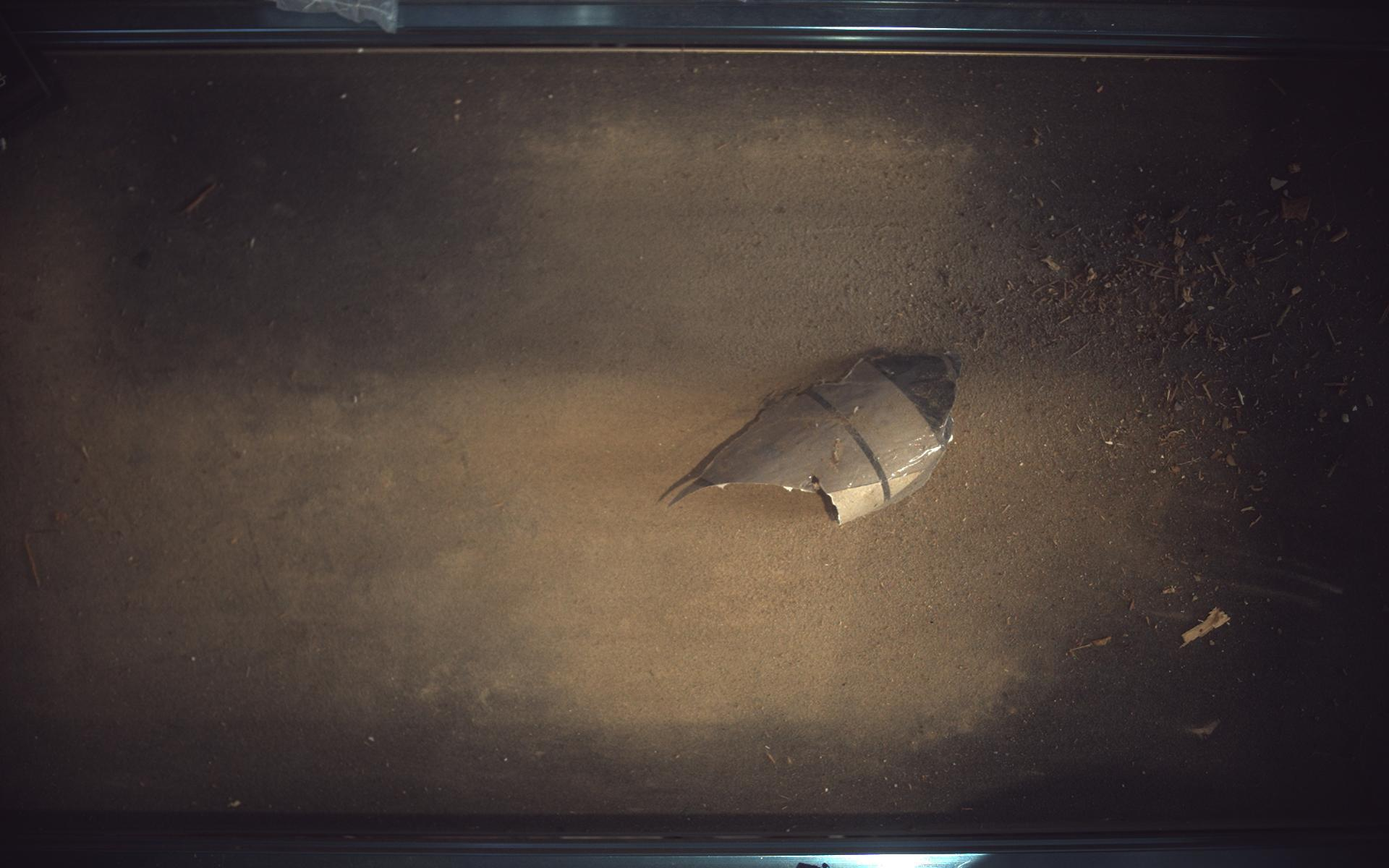general_w: (663, 352, 962, 524)
